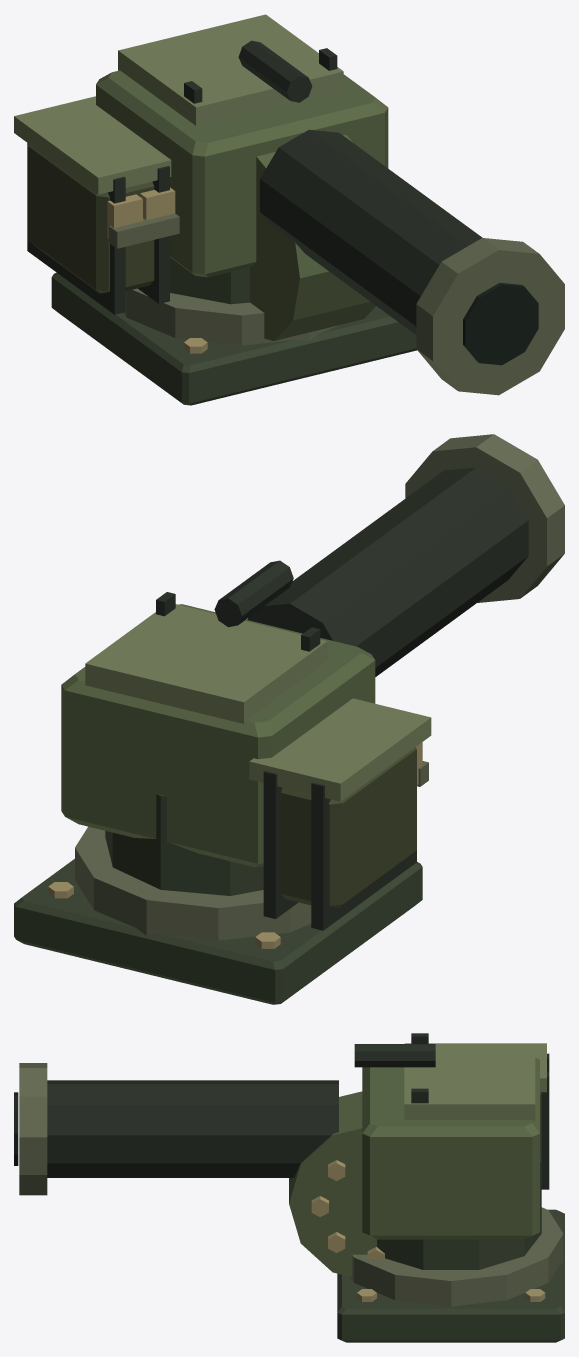
The model's file is grenadeLauncher.obj.
3 views of the same model, one above another, from view 1: azimuth 30°, elevation 25°; view 2: azimuth 150°, elevation 25°; view 3: azimuth 270°, elevation 25° (orthographic). The views are drawn at different scales.
Parts seen in each view (by area): view 1: MOVING.007, BASE.016; view 2: MOVING.007, BASE.016; view 3: MOVING.007, BASE.016.
Part boxes in pixels (left/top/right/bottom): MOVING.007: left=14, top=14, right=564, bottom=395; BASE.016: left=51, top=272, right=416, bottom=405; MOVING.007: left=61, top=434, right=564, bottom=930; BASE.016: left=14, top=826, right=422, bottom=1004; MOVING.007: left=14, top=1033, right=549, bottom=1276; BASE.016: left=337, top=1207, right=564, bottom=1342.
Size of the model in its own units: 0.9225 by 0.88 by 1.77.
Materials: 1 (1 with a texture image).
